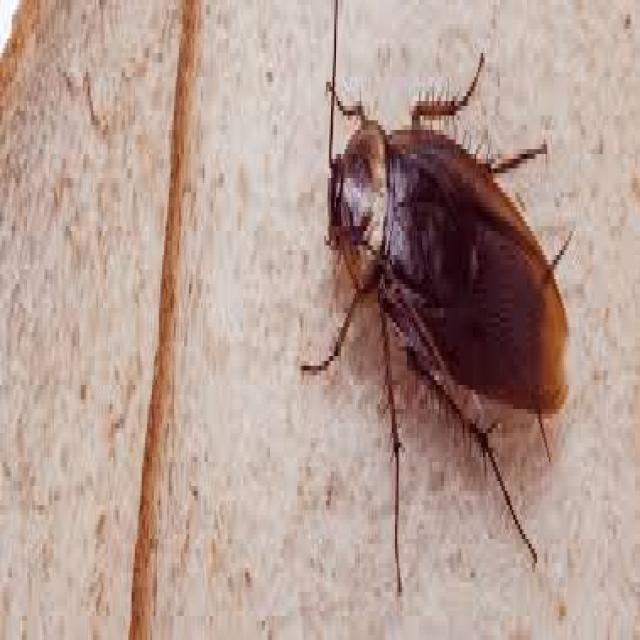Cockroach: (295, 0, 584, 606)
